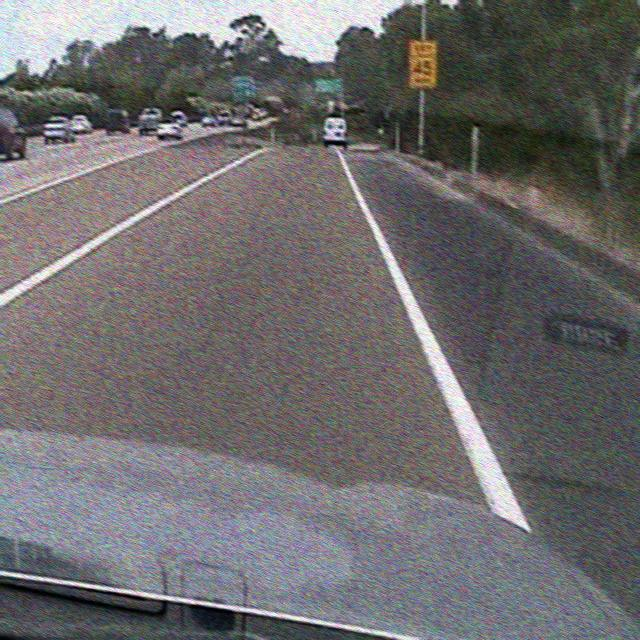speedLimit45: (408, 37, 437, 88)
